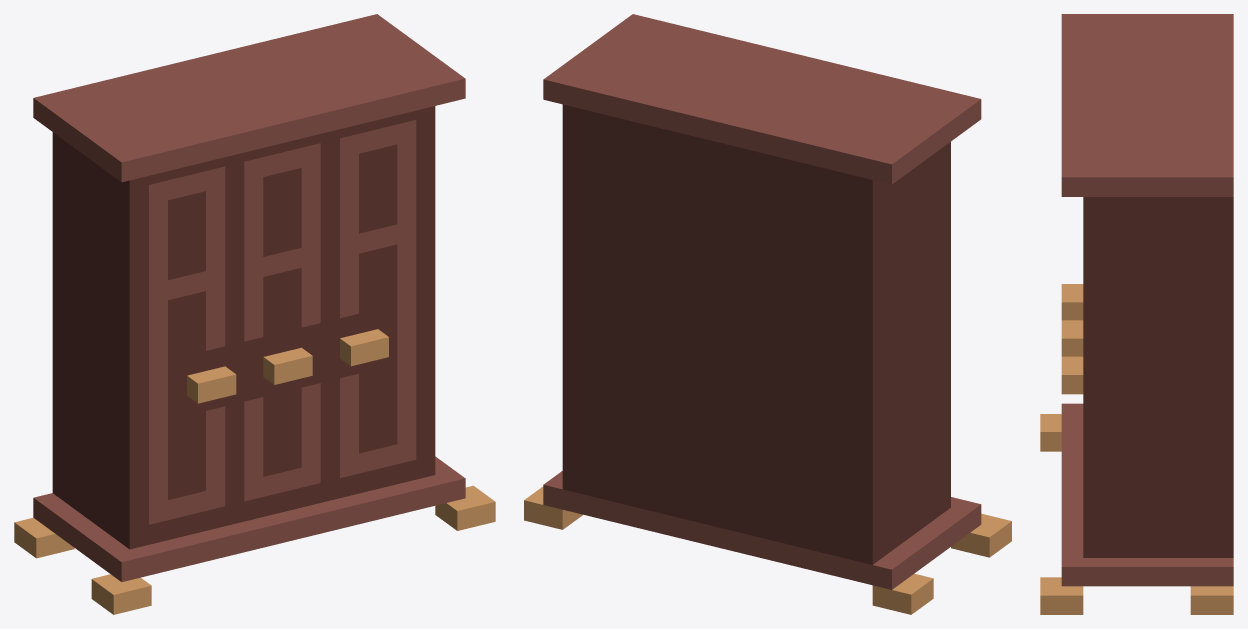
File: CabinetVeryBig.obj
3 views of the same model, side by side, from view 1: azimuth 30°, elevation 25°; view 2: azimuth 150°, elevation 25°; view 3: azimuth 270°, elevation 25° (orthographic). The views are drawn at different scales.
Size of the model in its own units: 20 by 22 by 9.
Materials: 1 (1 with a texture image).
